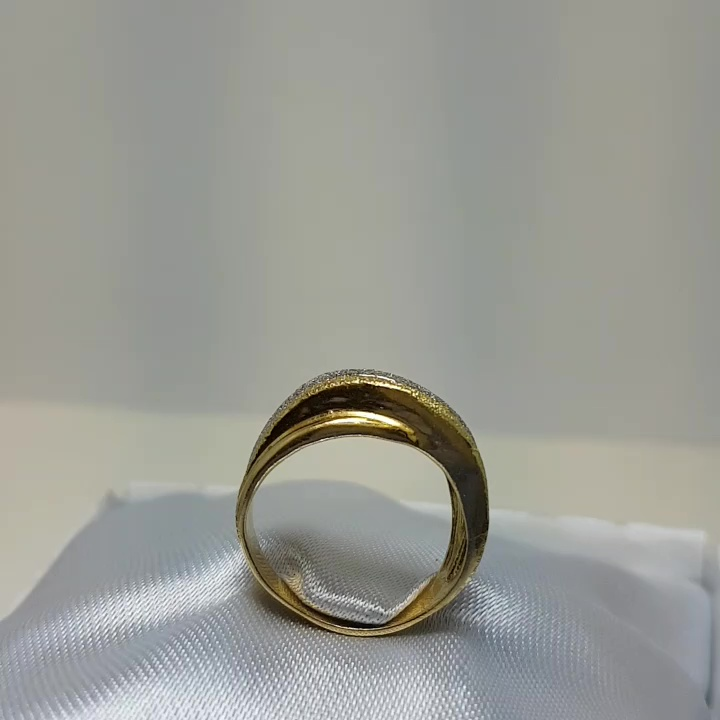Ring 5: (220, 342, 516, 641)
